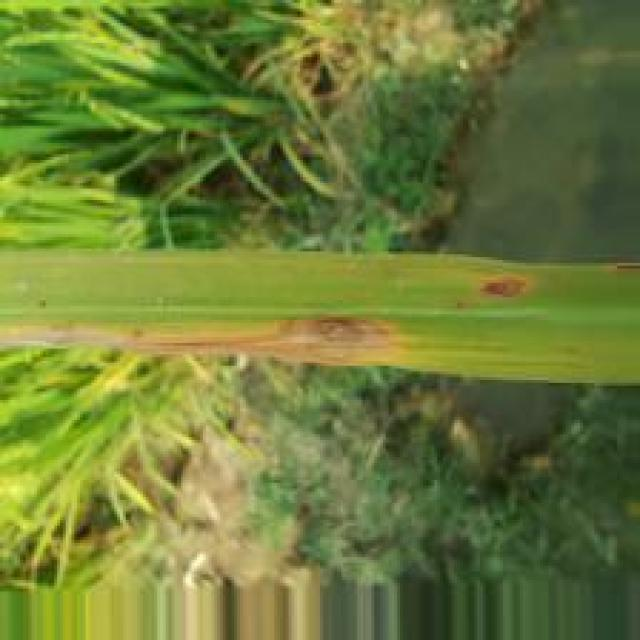Leaf_Blast: (17, 318, 412, 365), (478, 273, 531, 299)
